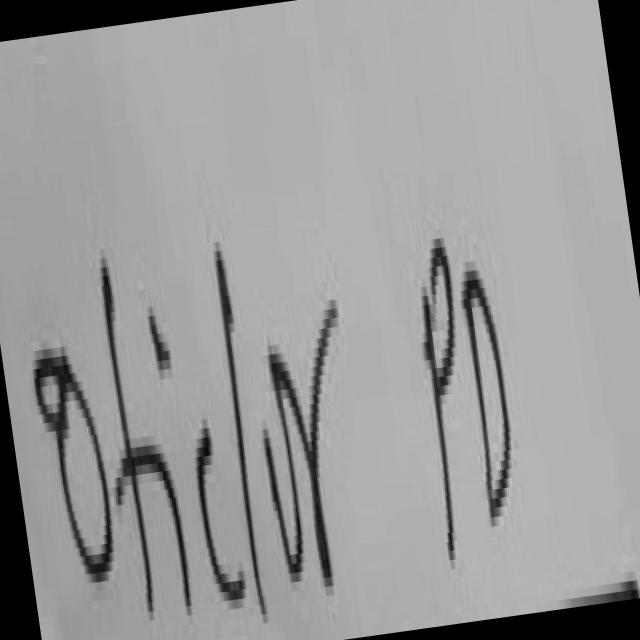D: (440, 178, 542, 600)
O: (12, 234, 132, 626)
P: (377, 140, 504, 616)
c: (172, 350, 259, 640)
i: (127, 263, 211, 639)
l: (192, 162, 286, 640)
o: (237, 289, 324, 640)
r: (272, 288, 373, 616)
t: (74, 191, 173, 640)
